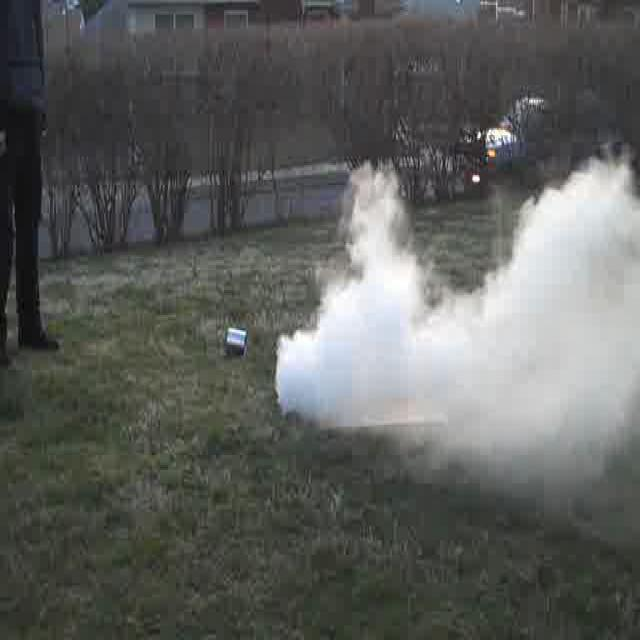Smoke: (292, 210, 635, 448)
